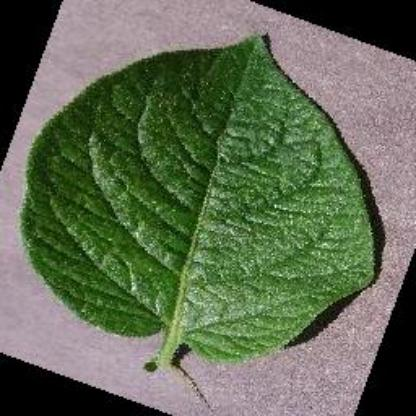Healthy-plant: (18, 30, 386, 372)
